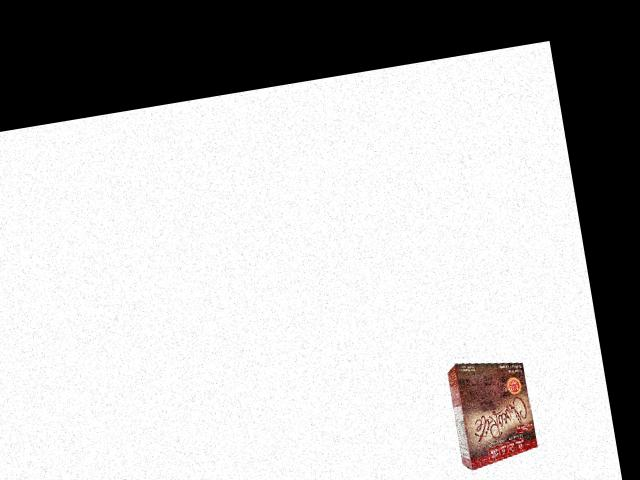chocolate: (446, 352, 541, 468)
